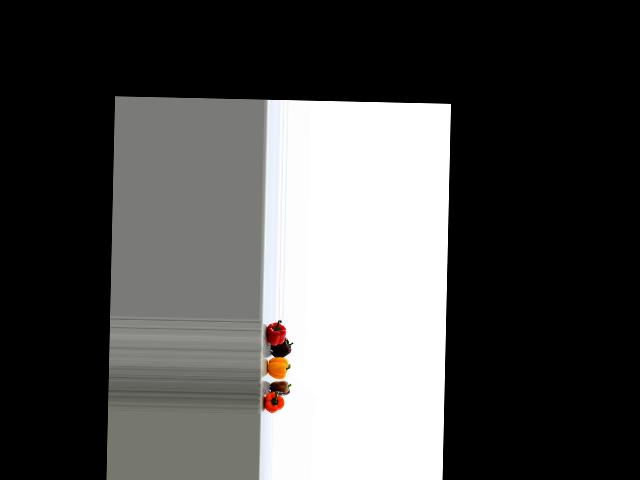bell_pepper: (261, 390, 291, 413)
